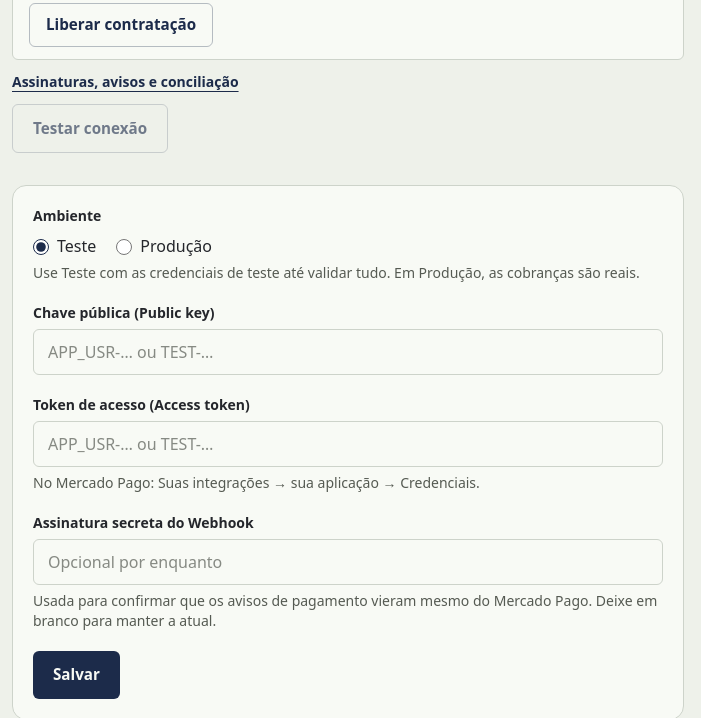
Test case: página de pagamentos › grava o token digitado e limpa o campo depois
(page scrolled)
Type "TEST-1234567890123456-110700-abcdefabcdefabcdefabcdefabcdef12-123456789" into the password field labelled "Token de acesso (Access token)" at (348,444), box [33, 421, 663, 467]
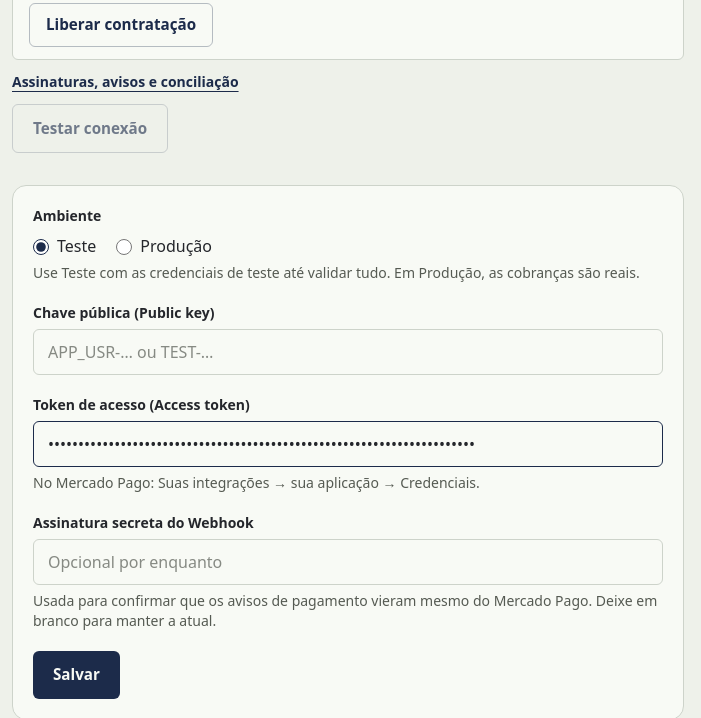
Click the button "Salvar" at (76,675), box [33, 651, 120, 699]
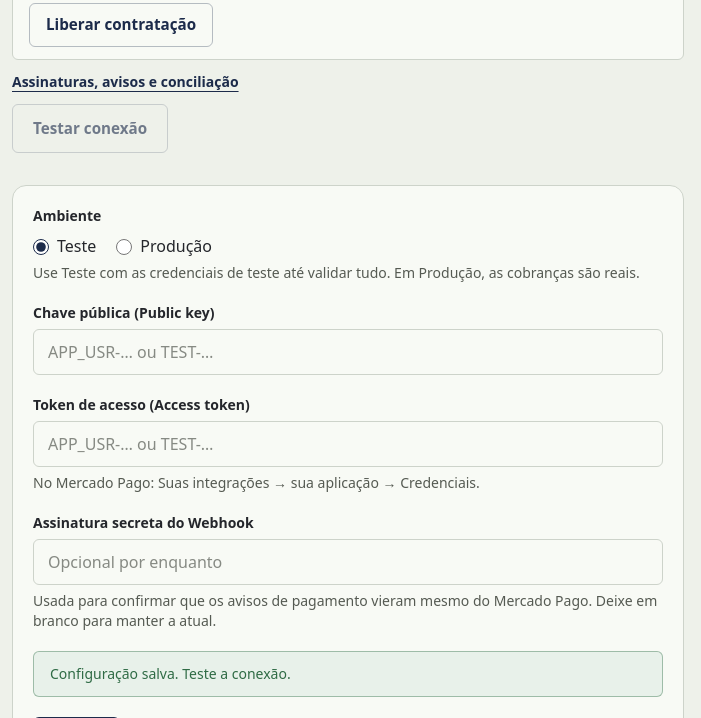
Result: the text "Configuração salva. Teste a conexão." is shown at [50, 664, 291, 683]
Result: the password field labelled "Token de acesso (Access token)" is empty at [33, 421, 663, 467]
